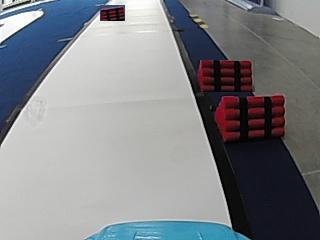bomb: (217, 94, 287, 140)
